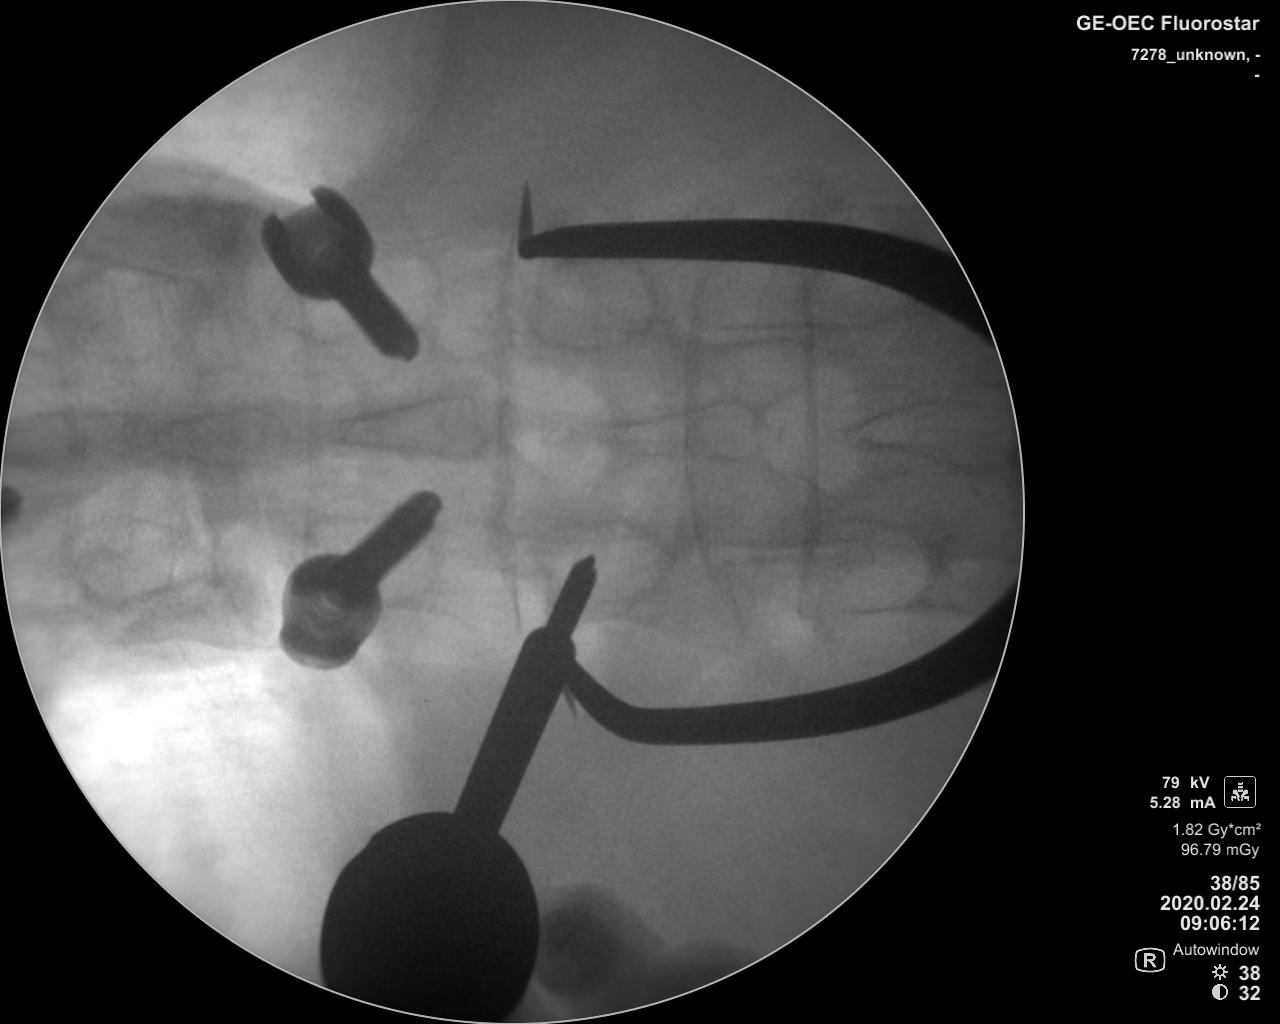eyes: (64, 515, 213, 609), (805, 513, 940, 615), (538, 515, 671, 614), (519, 256, 658, 349), (309, 508, 441, 605), (286, 255, 447, 334)
line: (488, 236, 529, 631), (683, 266, 715, 611), (794, 267, 828, 572), (290, 298, 323, 560)
nose: (568, 398, 760, 467), (846, 397, 1009, 475), (324, 388, 495, 462), (146, 403, 294, 473), (8, 405, 147, 471)
